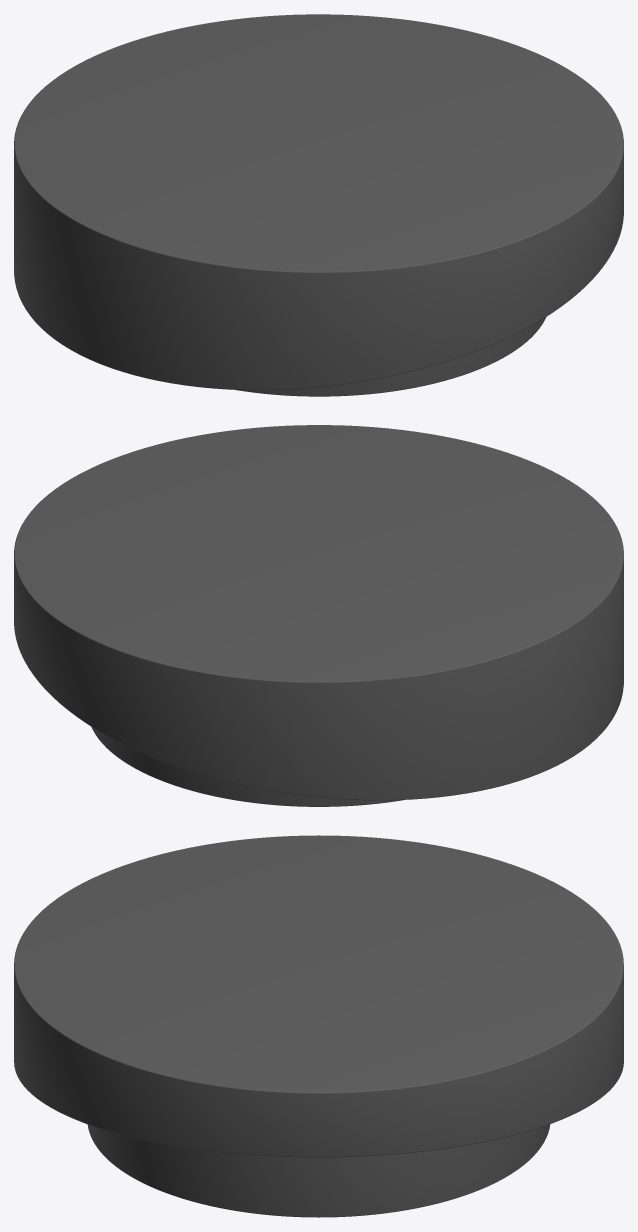
File: Winton by Lampatron.fbx
3 views of the same model, one above another, from view 1: azimuth 30°, elevation 25°; view 2: azimuth 150°, elevation 25°; view 3: azimuth 270°, elevation 25° (orthographic).
Parts seen in each view (by area): view 1: Winton by Lampatron; view 2: Winton by Lampatron; view 3: Winton by Lampatron.
Part boxes in pixels (box(x1,y1,x2,y2)): Winton by Lampatron: box(14, 14, 623, 396); Winton by Lampatron: box(14, 425, 623, 806); Winton by Lampatron: box(14, 835, 623, 1217).
Bounding box in the file's own units: 50 × 14.12 × 50.01.
